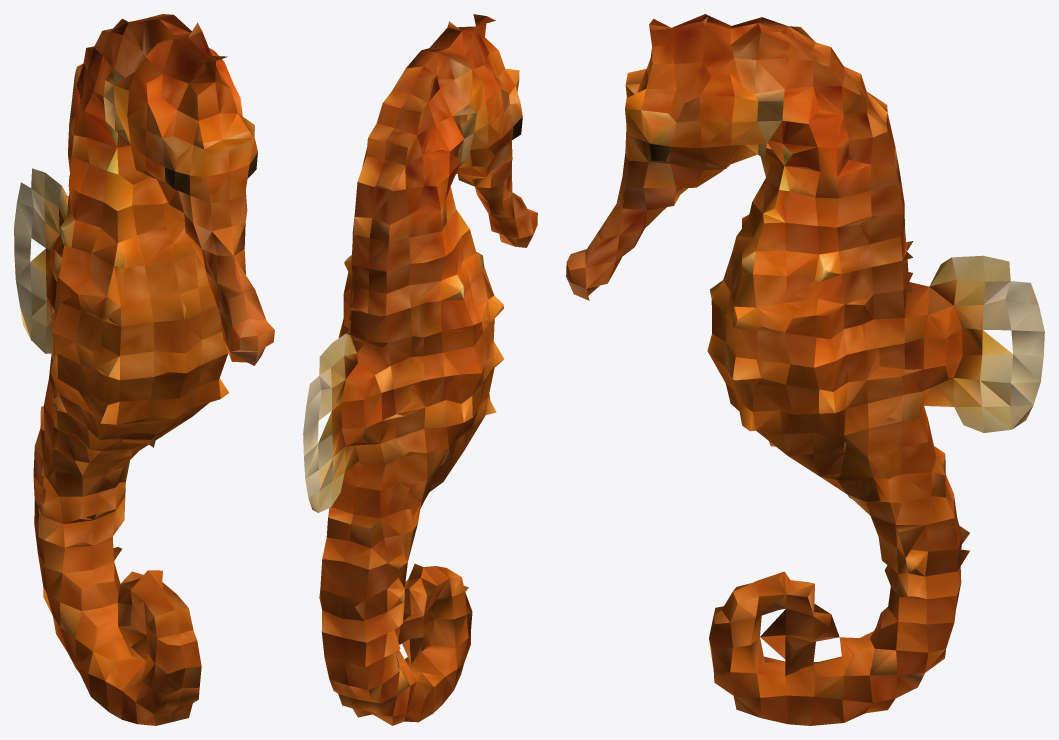
The model's file is seahorse.glb.
3 views of the same model, side by side, from view 1: azimuth 30°, elevation 25°; view 2: azimuth 150°, elevation 25°; view 3: azimuth 270°, elevation 25° (orthographic). The views are drawn at different scales.
Bounding box in the file's own units: 0.2282 × 0.9922 × 0.6096.
Materials: 1 (1 with a texture image).
